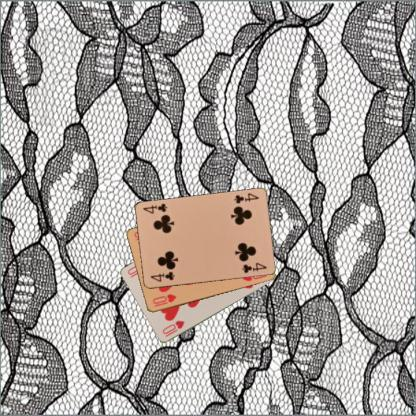10h: (160, 318, 186, 338), (150, 291, 178, 308)
4c: (231, 191, 260, 205), (148, 269, 176, 283)
